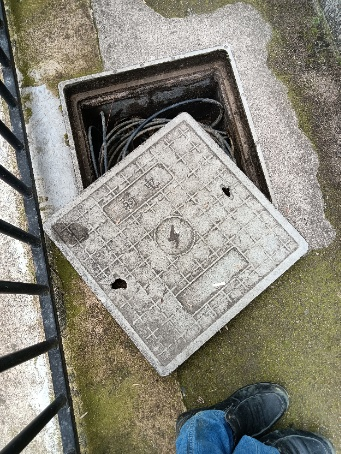uncovered: (43, 50, 309, 375)
